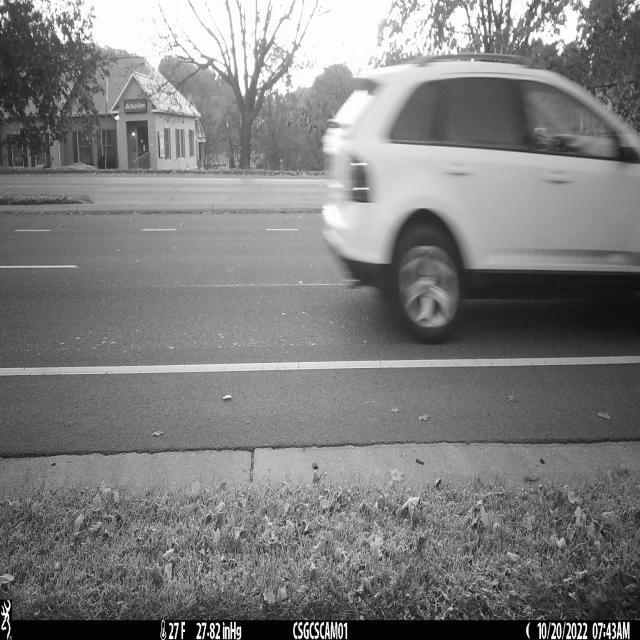SUV: (320, 53, 640, 339)
